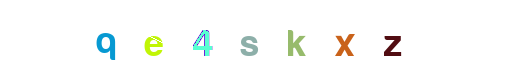4: (154, 0, 234, 80)
E: (113, 0, 193, 80)
K: (236, 0, 316, 80)
Q: (78, 0, 158, 80)
S: (223, 0, 303, 80)
X: (305, 0, 385, 80)
Z: (352, 0, 432, 80)
